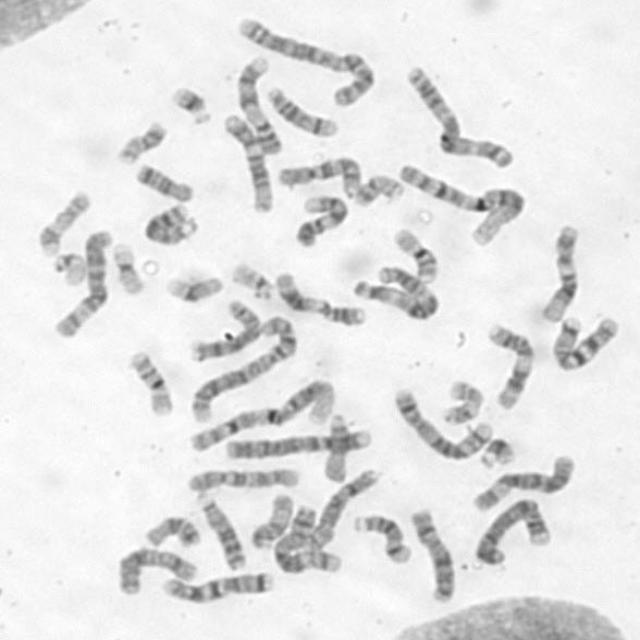A1: (185, 373, 340, 455), (394, 157, 530, 249)
A2: (232, 13, 376, 109), (185, 311, 297, 425)
A3: (401, 59, 517, 170), (347, 259, 441, 321)
B4: (469, 493, 554, 569), (219, 424, 372, 461)
B5: (389, 384, 493, 461), (268, 494, 345, 576)
C10: (272, 151, 364, 200), (182, 463, 301, 493)
C11: (270, 266, 369, 327), (481, 318, 538, 412)
C12: (220, 110, 274, 214), (536, 220, 584, 325)
C6: (48, 224, 114, 340), (466, 448, 577, 514)
C7: (546, 310, 622, 372), (156, 568, 275, 606)
C8: (300, 463, 384, 553), (185, 296, 262, 364)
C9: (231, 52, 284, 154), (290, 191, 350, 249)
D13: (192, 489, 249, 571), (138, 198, 202, 247)
D14: (262, 82, 342, 139), (347, 510, 413, 565)
D15: (246, 490, 295, 551), (319, 408, 350, 483)
E16: (123, 346, 176, 418), (387, 221, 441, 282)
E17: (35, 186, 92, 257), (438, 376, 487, 427)
E18: (129, 158, 195, 202), (140, 510, 202, 550)
F19: (161, 268, 226, 304), (107, 238, 147, 296)
F20: (111, 114, 170, 166), (353, 170, 406, 209)
G21: (166, 79, 216, 126), (475, 433, 518, 470)
G22: (228, 256, 276, 302), (49, 248, 89, 287)
X: (407, 504, 457, 604), (112, 543, 199, 597)
